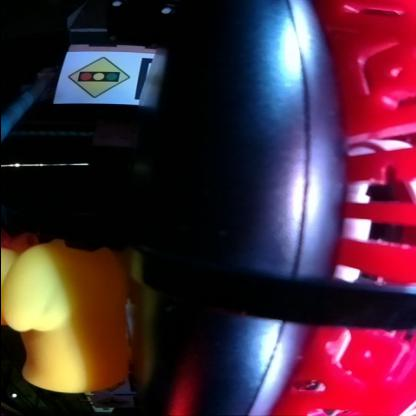Duckie: (1, 235, 127, 392)
Duckiebot: (131, 0, 413, 415)
Signal sign: (65, 57, 127, 98)
